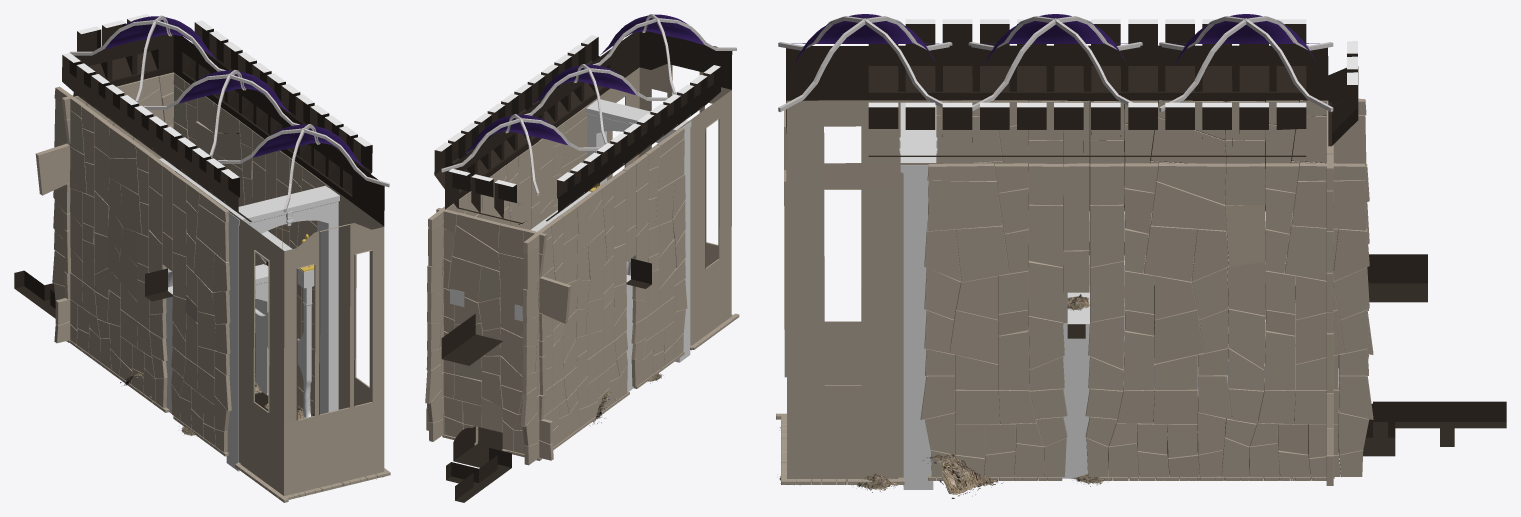
The model's file is Scene Tombeau Model Par ZacharyVilleneuve.fbx.
3 views of the same model, side by side, from view 1: azimuth 30°, elevation 25°; view 2: azimuth 150°, elevation 25°; view 3: azimuth 270°, elevation 25° (orthographic). The views are drawn at different scales.
Parts seen in each view (by area): view 1: Tombeau Complet; view 2: Tombeau Complet; view 3: Tombeau Complet.
Boxes of the visible parts, x1,y1,x2,y2 form: Tombeau Complet: [14, 14, 390, 502]; Tombeau Complet: [425, 14, 739, 502]; Tombeau Complet: [776, 14, 1506, 498].
Size of the model in its own units: 3542 by 6534 by 9938.
